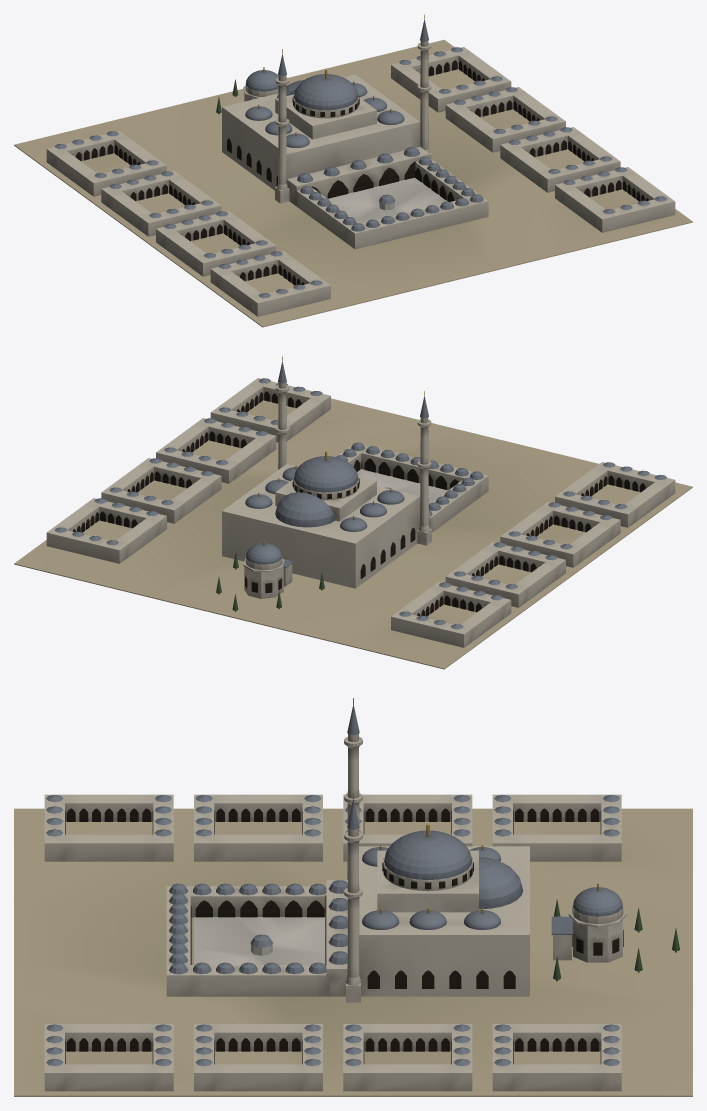
File: fatih-mosque.glb
3 renders of one model, top to bottom at view 1: azimuth 30°, elevation 25°; view 2: azimuth 150°, elevation 25°; view 3: azimuth 270°, elevation 25°, orthographic. The views are drawn at different scales.
Parts seen in each view (by area): view 1: p0_court, p3_kulliye, p1_hall, p2_domes; view 2: p0_court, p3_kulliye, p1_hall, p2_domes; view 3: p0_court, p3_kulliye, p1_hall, p2_domes.
Boxes of the visible parts, x1,y1,x2,y2 form: p0_court: (14,39,692,327); p3_kulliye: (46,47,675,316); p1_hall: (222,74,420,190); p2_domes: (245,14,431,203); p0_court: (14,398,692,669); p3_kulliye: (46,378,675,647); p1_hall: (222,464,420,588); p2_domes: (245,356,431,545); p0_court: (14,808,692,1096); p3_kulliye: (44,794,679,1091); p1_hall: (359,846,529,996); p2_domes: (344,698,523,1002).
Bounding box in the file's own units: 200 × 67.56 × 200.
